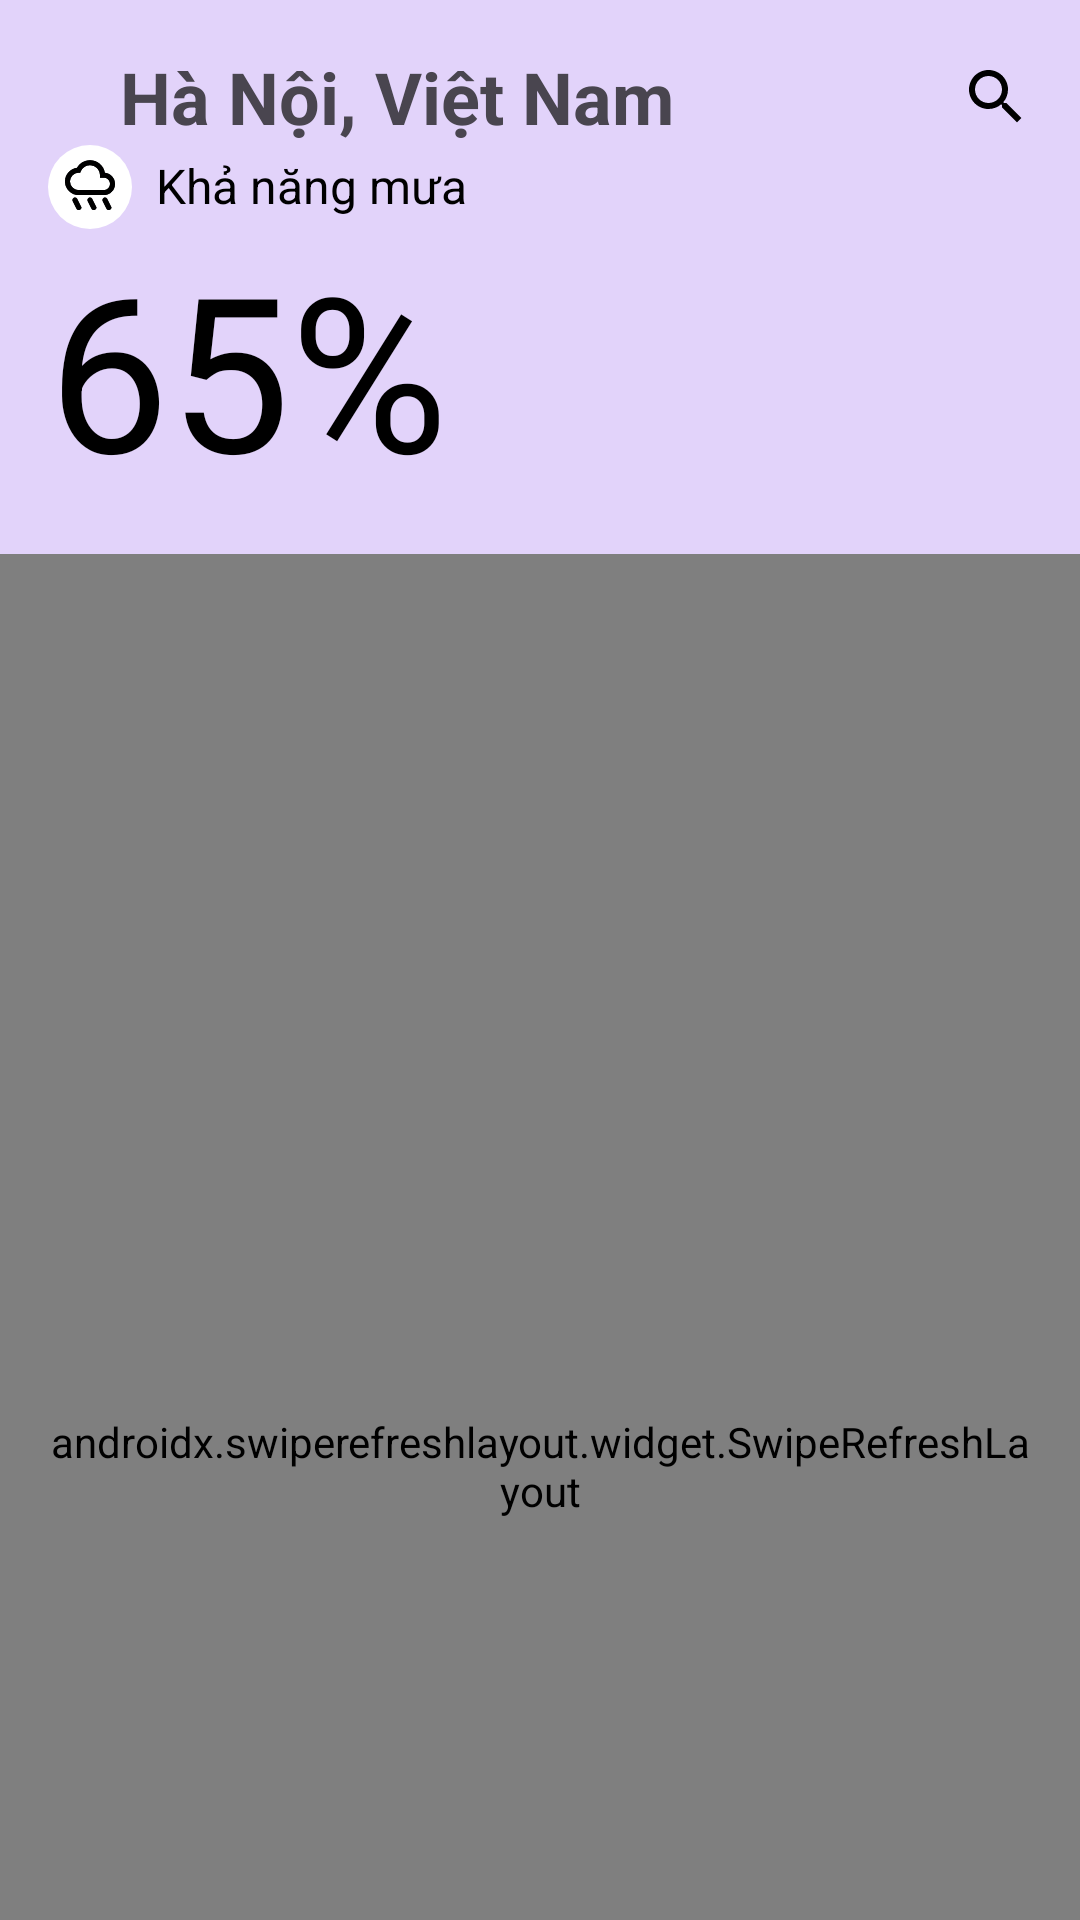

Point at icon controls on the screen. Image size 1080x1920, points as point (x, y).
search: point (995, 96)
